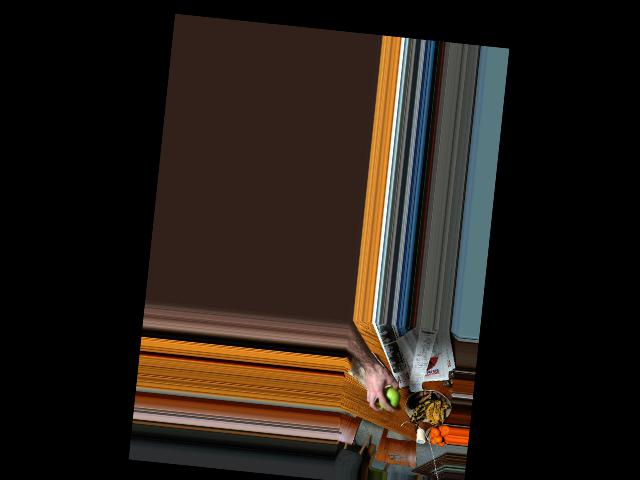apple: (377, 384, 400, 412)
